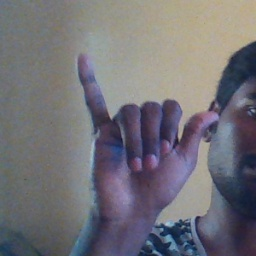J: (70, 50, 220, 216)
